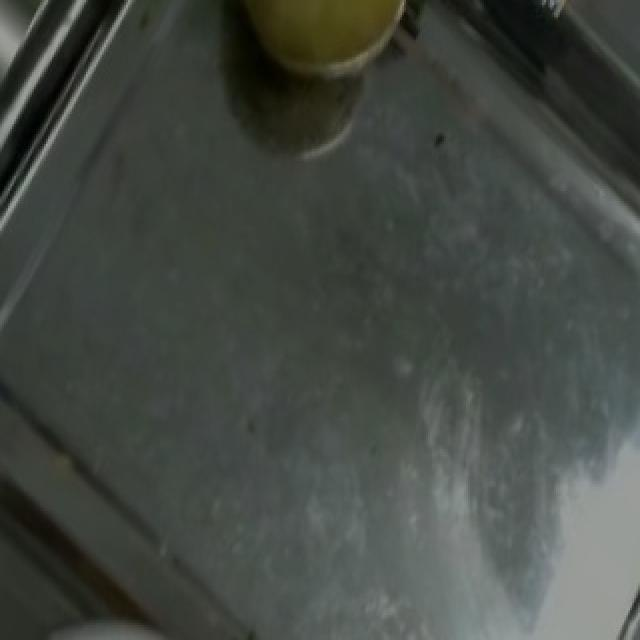fruit: (228, 0, 434, 99)
